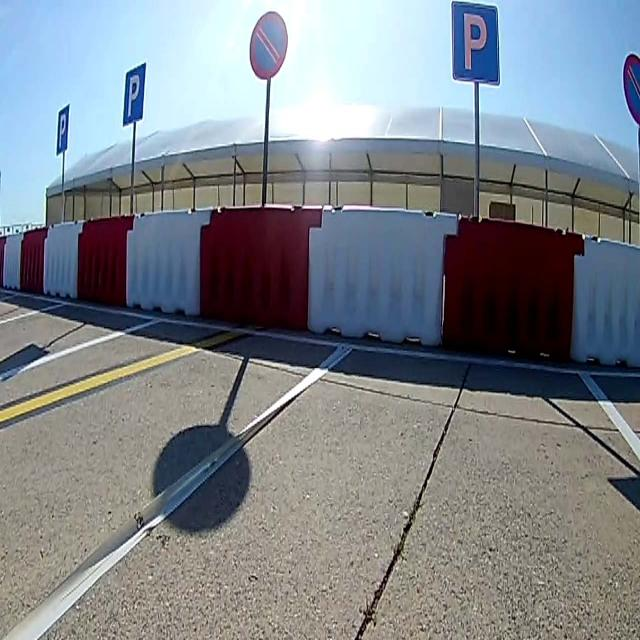park: (453, 3, 498, 85), (126, 65, 144, 123), (56, 103, 70, 154)
parkyasak: (250, 13, 288, 78)
